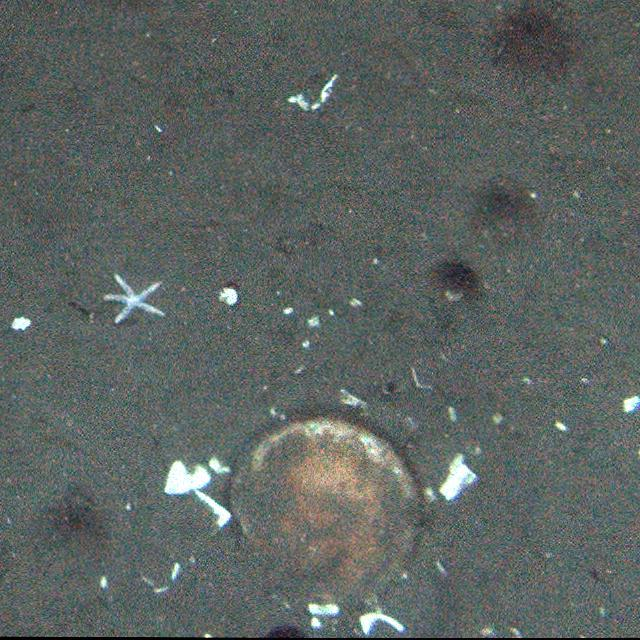scallop: (232, 420, 422, 602)
